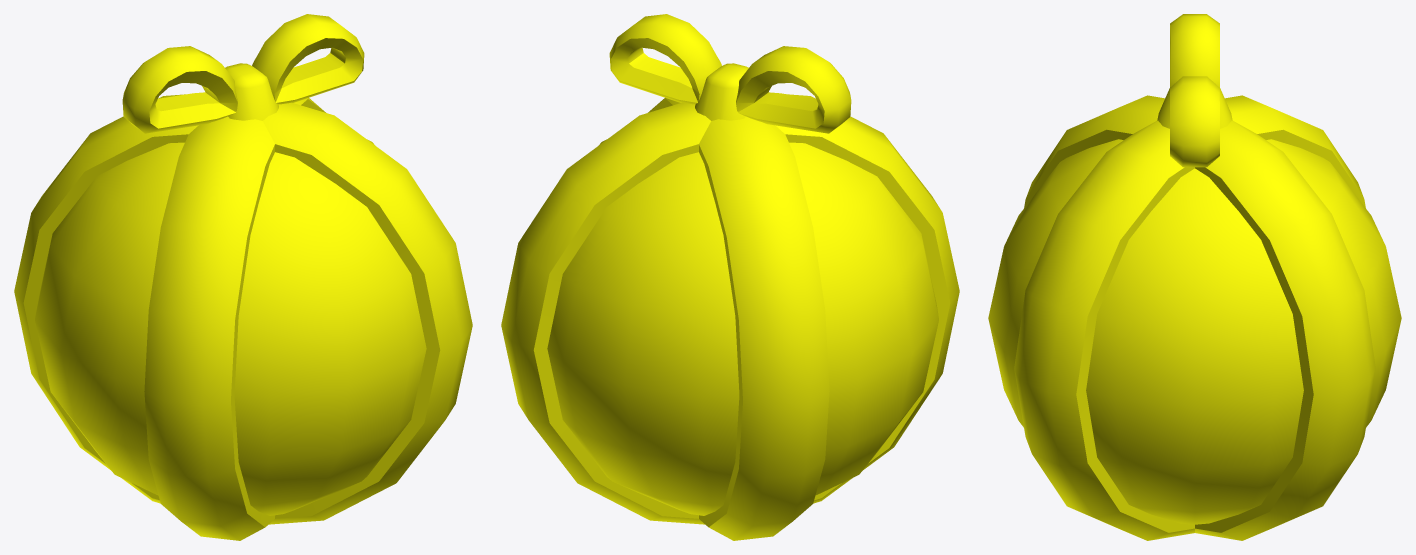
File: kaykit-present-sphere-b-green.glb
The picture shows the model from 3 angles, left to right: view 1: azimuth 30°, elevation 25°; view 2: azimuth 150°, elevation 25°; view 3: azimuth 270°, elevation 25°; orthographic projection.
Visible parts, largest first — view 1: present_sphere_B_green; view 2: present_sphere_B_green; view 3: present_sphere_B_green.
Boxes of the visible parts, bbox=[...] form: present_sphere_B_green: bbox=[14, 14, 472, 540]; present_sphere_B_green: bbox=[501, 14, 959, 540]; present_sphere_B_green: bbox=[988, 14, 1401, 540].
Size of the model in its own units: 0.7933 by 1 by 0.7933.
